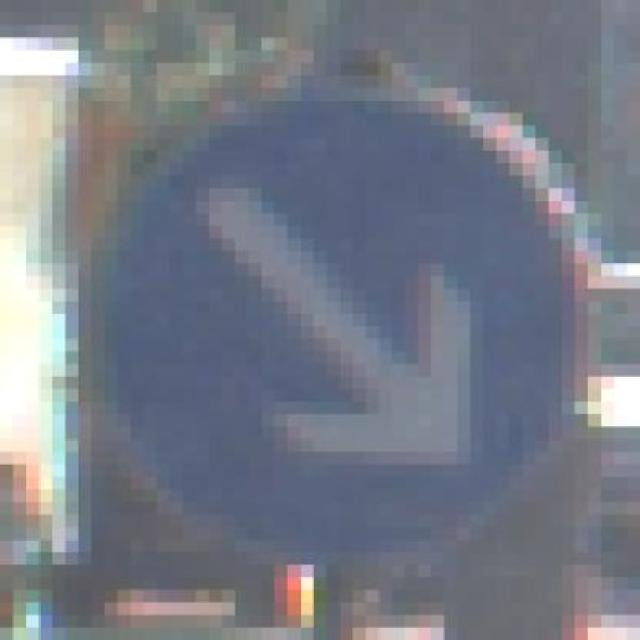Keep-Right: (52, 75, 600, 590)
